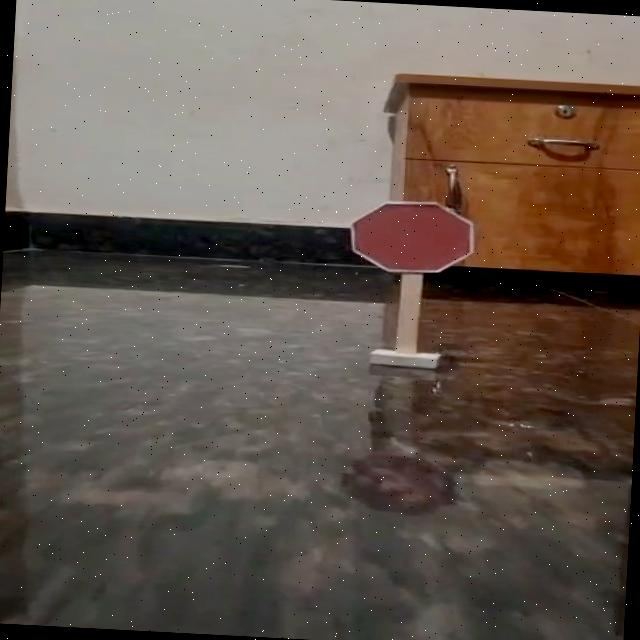Stop: (322, 182, 497, 292)
